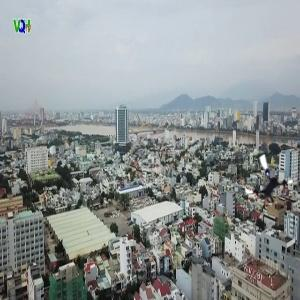drone: (242, 154, 297, 209)
